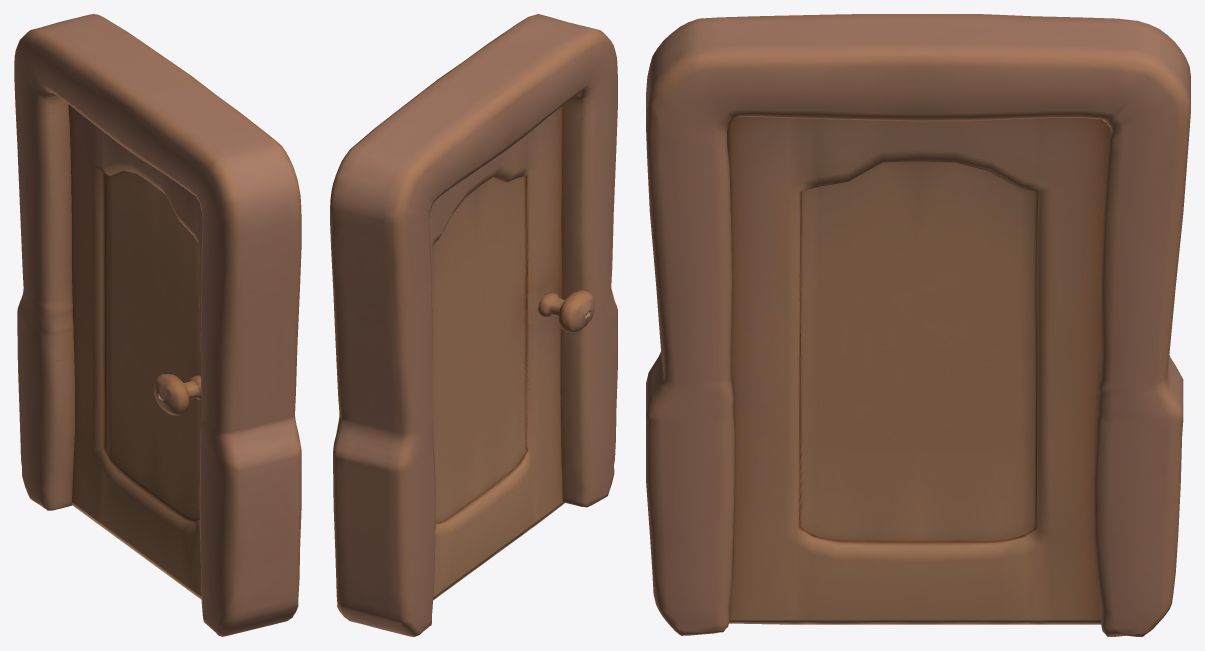
The model's file is selected.glb.
The picture shows the model from 3 angles, left to right: view 1: azimuth 30°, elevation 25°; view 2: azimuth 150°, elevation 25°; view 3: azimuth 270°, elevation 25°; orthographic projection. The views are drawn at different scales.
Parts seen in each view (by area): view 1: tripo_node_ada36761-7d92-49dc-ae38-a423cb6562ad; view 2: tripo_node_ada36761-7d92-49dc-ae38-a423cb6562ad; view 3: tripo_node_ada36761-7d92-49dc-ae38-a423cb6562ad.
Boxes of the visible parts, <box> form: tripo_node_ada36761-7d92-49dc-ae38-a423cb6562ad: <box>14,14,301,636</box>; tripo_node_ada36761-7d92-49dc-ae38-a423cb6562ad: <box>330,14,617,636</box>; tripo_node_ada36761-7d92-49dc-ae38-a423cb6562ad: <box>646,14,1190,636</box>.
Size of the model in its own units: 0.209 by 0.998 by 0.8418.
1 material, 1 textured.
